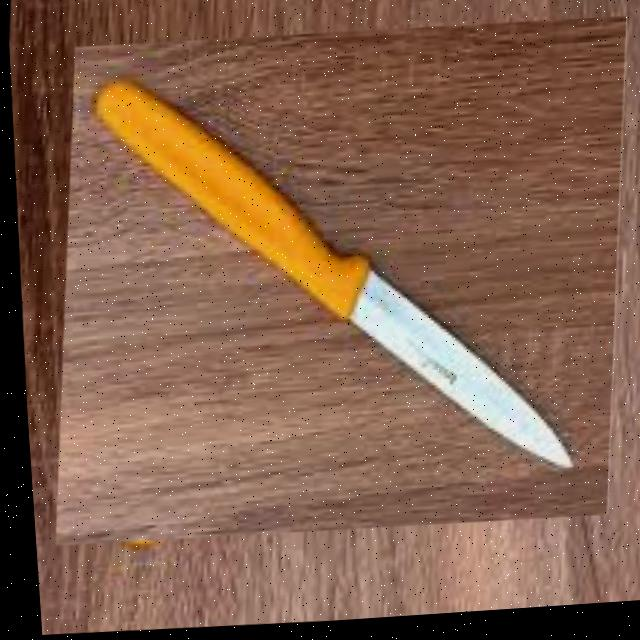knife: (30, 2, 628, 569)
